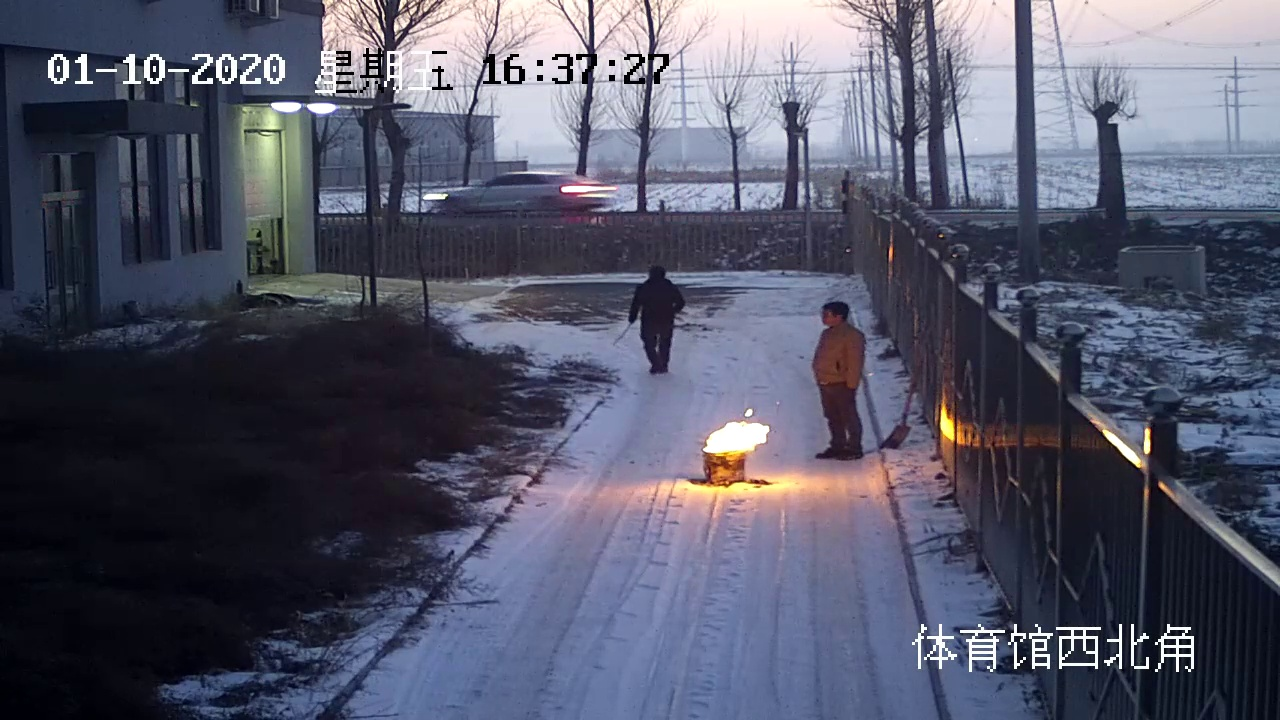fire: (703, 411, 768, 458)
